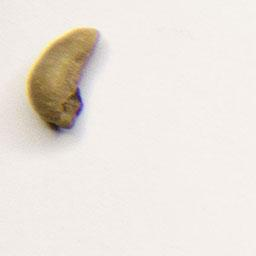defect: (21, 22, 105, 139)
